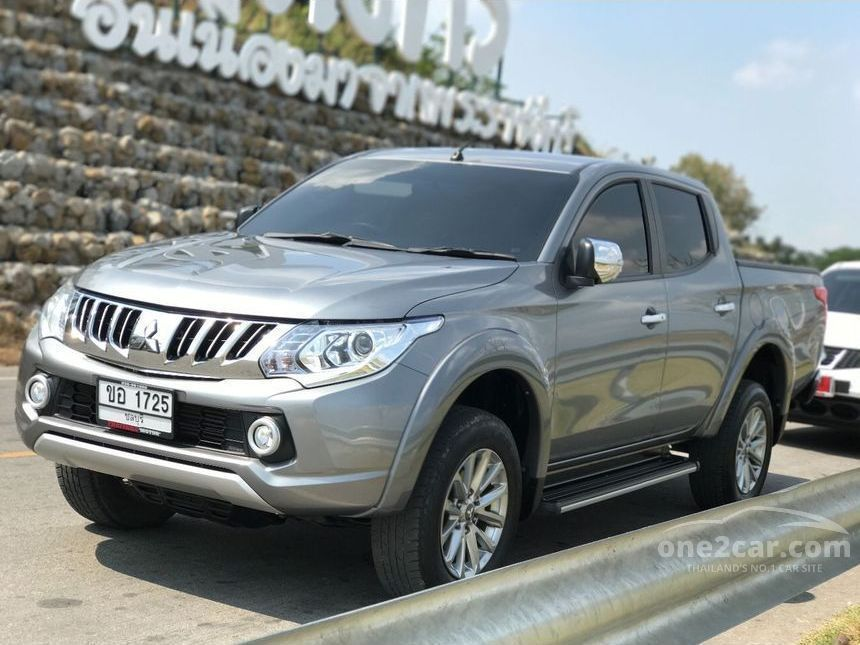pickup: (15, 135, 828, 586)
